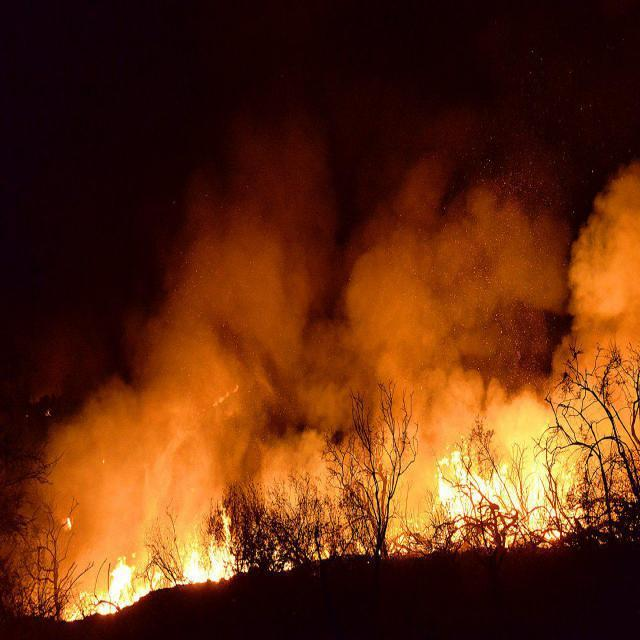Fire: (427, 434, 600, 558), (61, 509, 252, 621)
